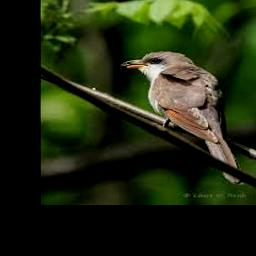Cuckoo: (121, 52, 243, 186)
